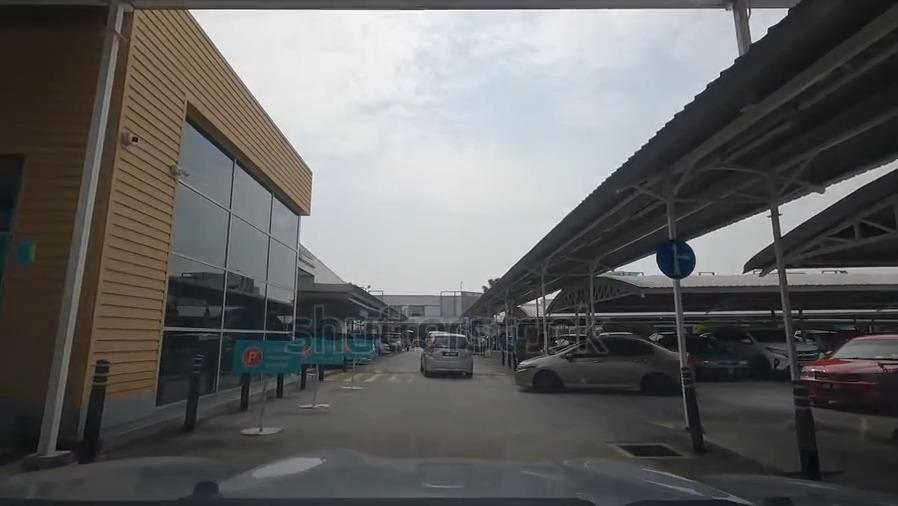car: (517, 336, 694, 393), (800, 334, 898, 403), (717, 322, 816, 373), (657, 334, 748, 378), (418, 332, 473, 375)
manhole: (613, 439, 686, 462)
pedestrian: (323, 370, 513, 379)
